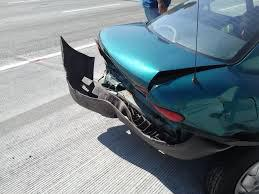boot-dent: (96, 30, 172, 94)
rear-bumper-dent: (86, 95, 165, 147)
